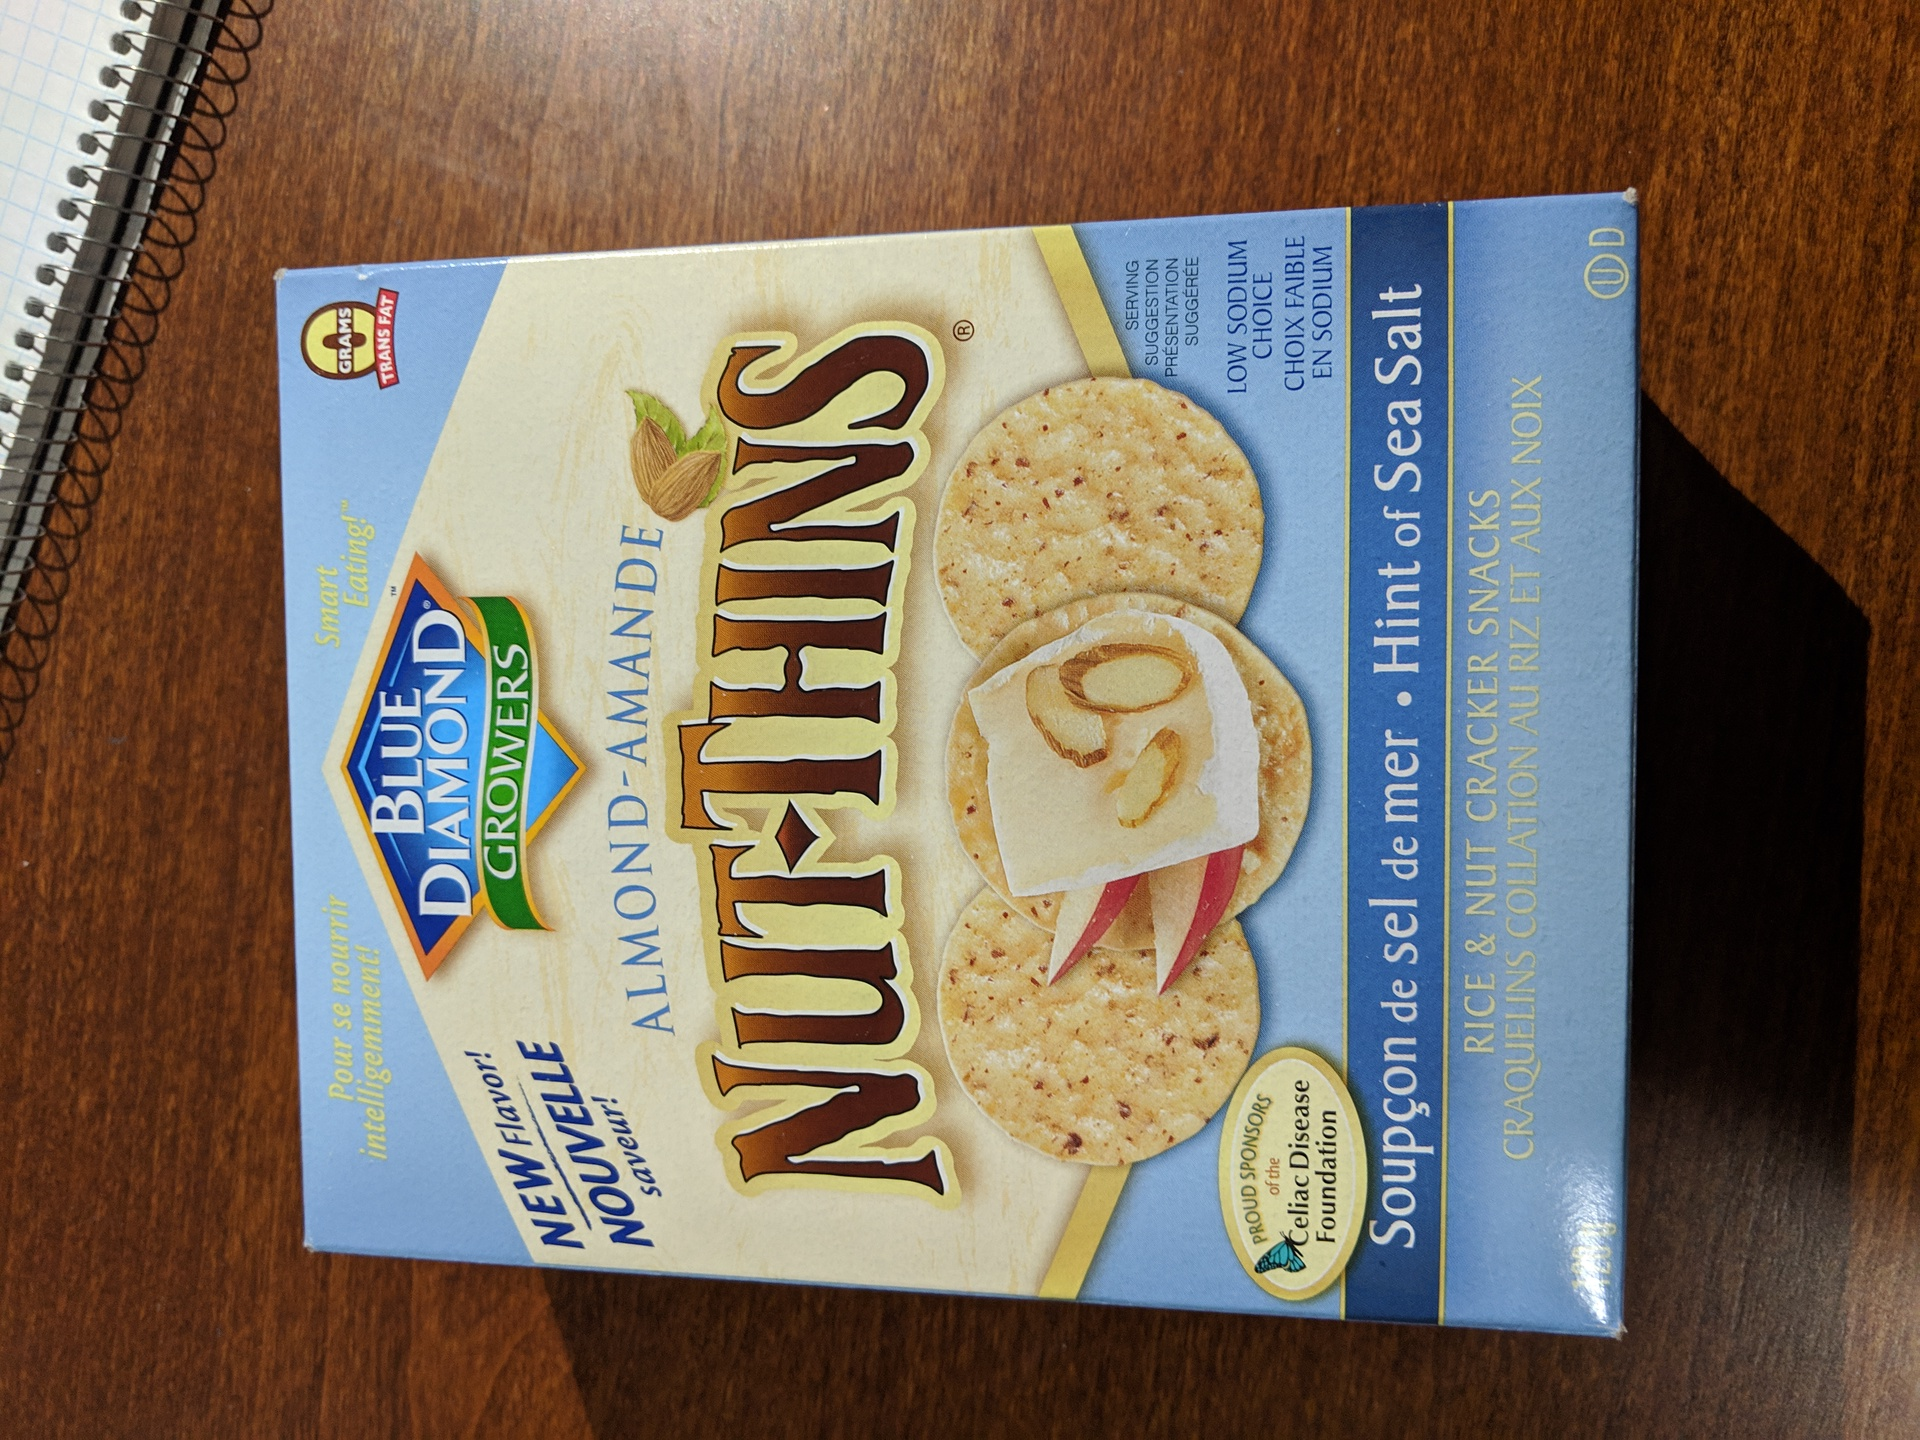blue_diamond_nut_thins_almond_seasalt: (308, 268, 1619, 1246)
